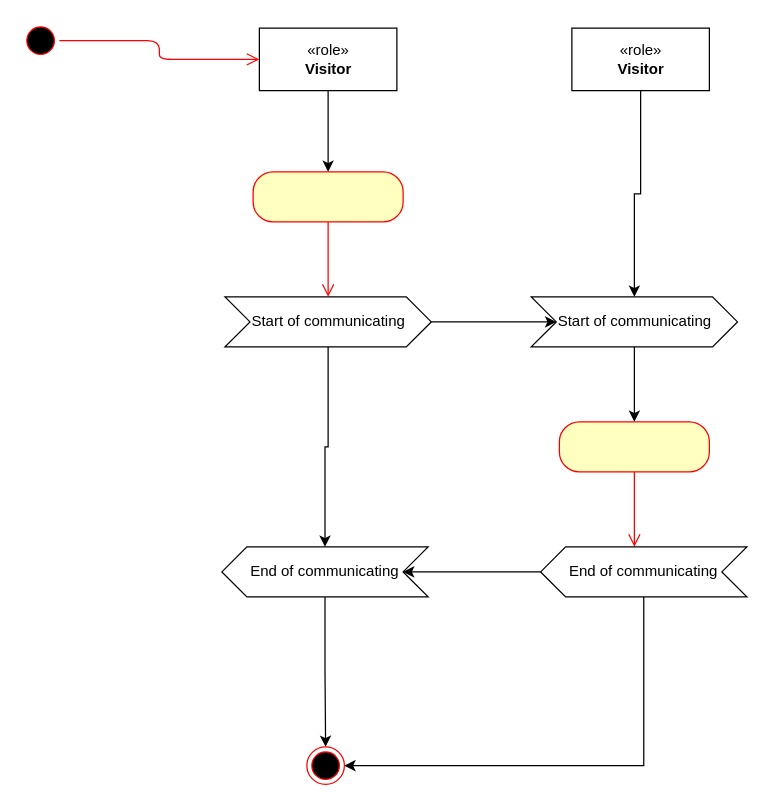
Some shapes in this 769 by 806 pixel diagram are drawn without their labels. The centre of each missing label's shape, as x and y in pixels:
"Find friend near by" belongs at point 327,196.
"Stay and communicating" belongs at point 633,446.
